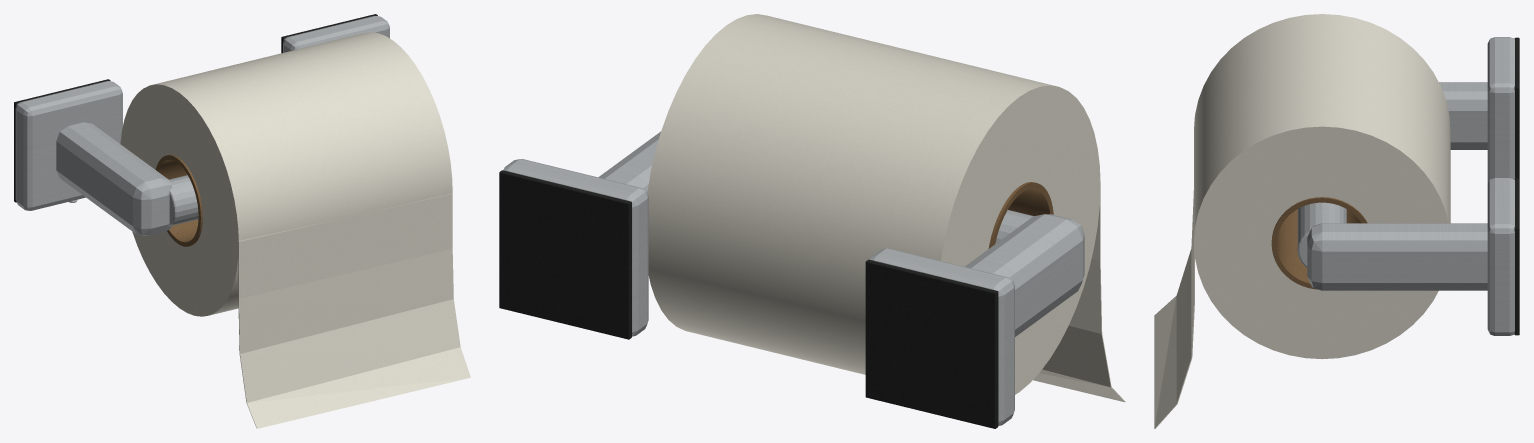
Rendered from mb01_wall_toilet_roll_holder_lod0.glb.
The picture shows the model from 3 angles, left to right: view 1: azimuth 30°, elevation 25°; view 2: azimuth 150°, elevation 25°; view 3: azimuth 270°, elevation 25°; orthographic projection. The views are drawn at different scales.
Visible parts, largest first — view 1: holder_paper_roll, holder_hanging_paper_tail, holder_support_arm_-1, holder_square_flange_-1, holder_square_flange_1, holder_cardboard_core, holder_spindle; view 2: holder_paper_roll, holder_wall_gasket_-1, holder_wall_gasket_1, holder_support_arm_-1, holder_hanging_paper_tail, holder_square_flange_-1, holder_square_flange_1, holder_support_arm_1, holder_cardboard_core; view 3: holder_paper_roll, holder_support_arm_1, holder_hanging_paper_tail, holder_square_flange_1, holder_square_flange_-1, holder_support_arm_-1, holder_cardboard_core, holder_spindle, holder_wall_gasket_1, holder_wall_gasket_-1.
Boxes of the visible parts, x1=… form: holder_paper_roll: x1=120, y1=32, x2=452, y2=316; holder_hanging_paper_tail: x1=235, y1=193, x2=470, y2=428; holder_support_arm_-1: x1=56, y1=122, x2=172, y2=235; holder_square_flange_-1: x1=15, y1=81, x2=122, y2=210; holder_square_flange_1: x1=283, y1=16, x2=389, y2=52; holder_cardboard_core: x1=155, y1=154, x2=202, y2=246; holder_spindle: x1=169, y1=175, x2=198, y2=226; holder_paper_roll: x1=647, y1=14, x2=1100, y2=394; holder_wall_gasket_-1: x1=865, y1=259, x2=998, y2=428; holder_wall_gasket_1: x1=499, y1=170, x2=631, y2=339; holder_support_arm_-1: x1=965, y1=214, x2=1084, y2=336; holder_hanging_paper_tail: x1=1033, y1=161, x2=1125, y2=402; holder_square_flange_-1: x1=869, y1=248, x2=1014, y2=425; holder_square_flange_1: x1=503, y1=159, x2=648, y2=336; holder_support_arm_1: x1=598, y1=131, x2=660, y2=191; holder_cardboard_core: x1=988, y1=182, x2=1053, y2=248; holder_paper_roll: x1=1194, y1=14, x2=1450, y2=359; holder_support_arm_1: x1=1307, y1=223, x2=1487, y2=290; holder_hanging_paper_tail: x1=1154, y1=191, x2=1201, y2=428; holder_square_flange_1: x1=1487, y1=178, x2=1514, y2=335; holder_square_flange_-1: x1=1487, y1=37, x2=1514, y2=183; holder_support_arm_-1: x1=1439, y1=82, x2=1487, y2=149; holder_cardboard_core: x1=1271, y1=197, x2=1367, y2=289; holder_spindle: x1=1297, y1=202, x2=1346, y2=267; holder_wall_gasket_1: x1=1514, y1=178, x2=1519, y2=335; holder_wall_gasket_-1: x1=1514, y1=37, x2=1519, y2=178.
Size of the model in its own units: 0.185 by 0.1352 by 0.148.
4 materials, 4 textured.
